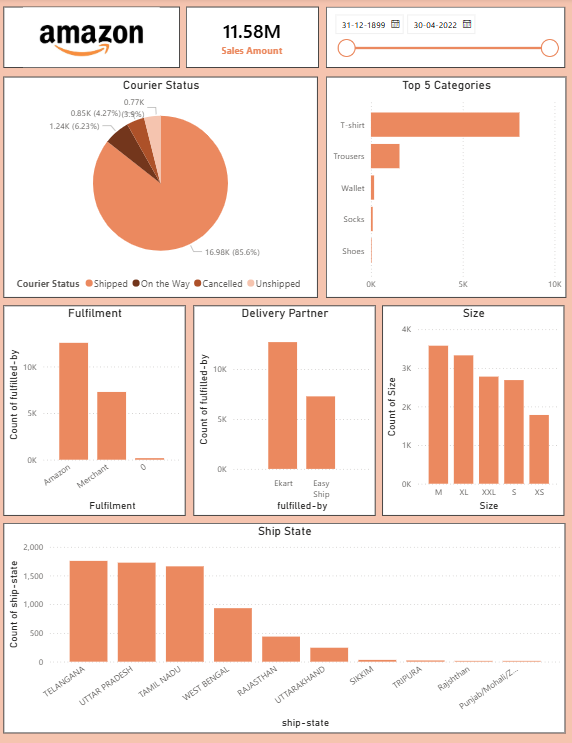

This screenshot's page, from the dashboard's own definition file:
{"tool":"powerbi","page":{"name":"Page 1","canvas":[816,1056],"ordinal":0},"visuals":[{"type":"image","box":[10.6,12.4,249.5,86.7],"z":0},{"type":"cardVisual","fields":{"Data":["Sum(Amazon Sale Report.Amount)"]},"box":[269,12.4,187.6,86.7],"z":1000},{"type":"slicer","title":"Date","fields":{"Values":["Amazon Sale Report.Date"]},"box":[466.2,12.5,338.8,86.2],"z":2000},{"type":"clusteredBarChart","title":"Top 5 Categories ","fields":{"Category":["Amazon Sale Report.Category"],"Y":["CountNonNull(Amazon Sale Report.Category)"]},"box":[466.2,111.2,340,312.5],"z":3000},{"type":"pieChart","title":"Courier Status","fields":{"Category":["Amazon Sale Report.Courier Status"],"Y":["CountNonNull(Amazon Sale Report.Courier Status)"]},"box":[11.2,111.2,445,312.5],"z":4000},{"type":"columnChart","title":"Fulfilment","fields":{"Category":["Amazon Sale Report.Fulfilment"],"Y":["CountNonNull(Amazon Sale Report.fulfilled-by)"]},"box":[11.2,435,257.5,297.5],"z":5000},{"type":"columnChart","title":"Delivery Partner","fields":{"Category":["Amazon Sale Report.fulfilled-by"],"Y":["CountNonNull(Amazon Sale Report.fulfilled-by)"]},"box":[278.8,435,257.5,297.5],"z":6000},{"type":"columnChart","title":"Size","fields":{"Category":["Amazon Sale Report.Size"],"Y":["CountNonNull(Amazon Sale Report.Size)"]},"box":[547.5,435,257.5,297.5],"z":7000},{"type":"columnChart","title":"Ship State","fields":{"Category":["Amazon Sale Report.ship-state"],"Y":["CountNonNull(Amazon Sale Report.ship-state)"]},"box":[10,743.8,795,297.5],"z":8000}]}

Visuals, with their boxes in screenshot pixels (x1, y1, x2, y2), scaled from the page's 816x1056 canvas onto the 572x743 screenshot:
image: select_region(7, 9, 182, 70)
cardVisual - Sum(Amazon Sale Report.Amount): select_region(189, 9, 320, 70)
"Date" slicer: select_region(327, 9, 564, 69)
"Top 5 Categories " clusteredBarChart: select_region(327, 78, 565, 298)
"Courier Status" pieChart: select_region(8, 78, 320, 298)
"Fulfilment" columnChart: select_region(8, 306, 188, 515)
"Delivery Partner" columnChart: select_region(195, 306, 376, 515)
"Size" columnChart: select_region(384, 306, 564, 515)
"Ship State" columnChart: select_region(7, 523, 564, 733)
